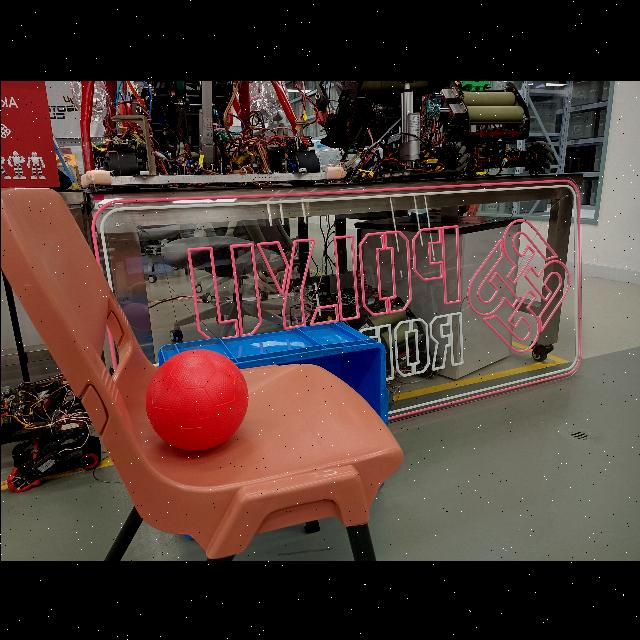R: (144, 341, 240, 449)
